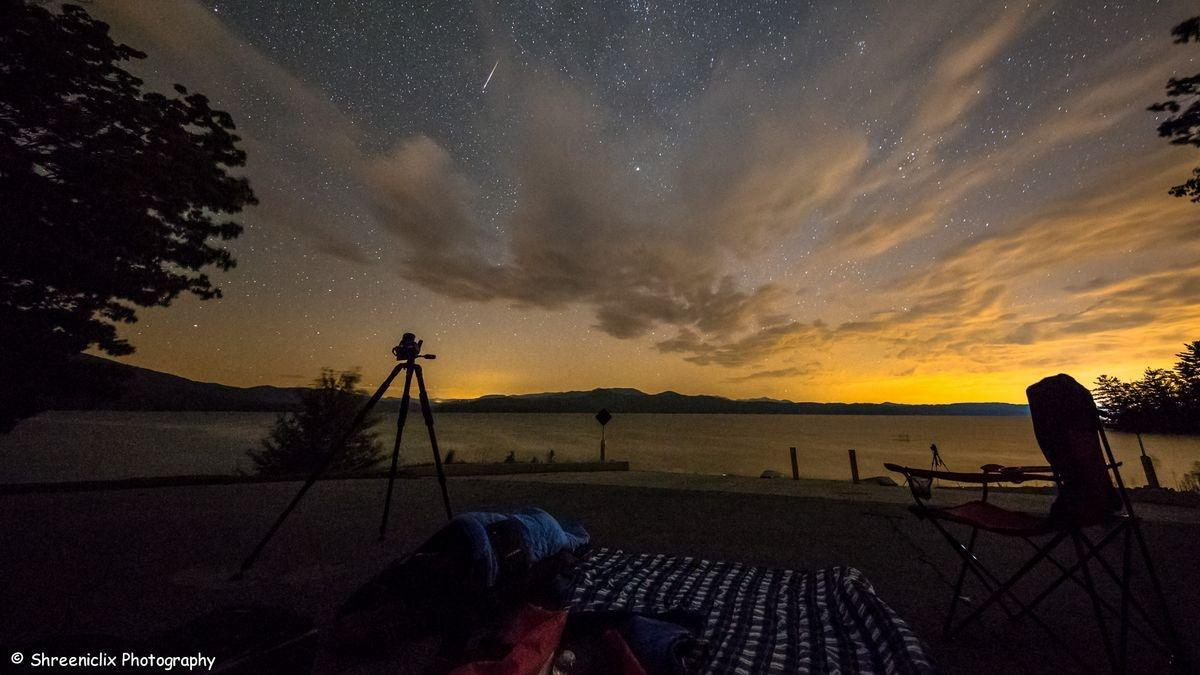meteorite: (473, 56, 512, 104)
